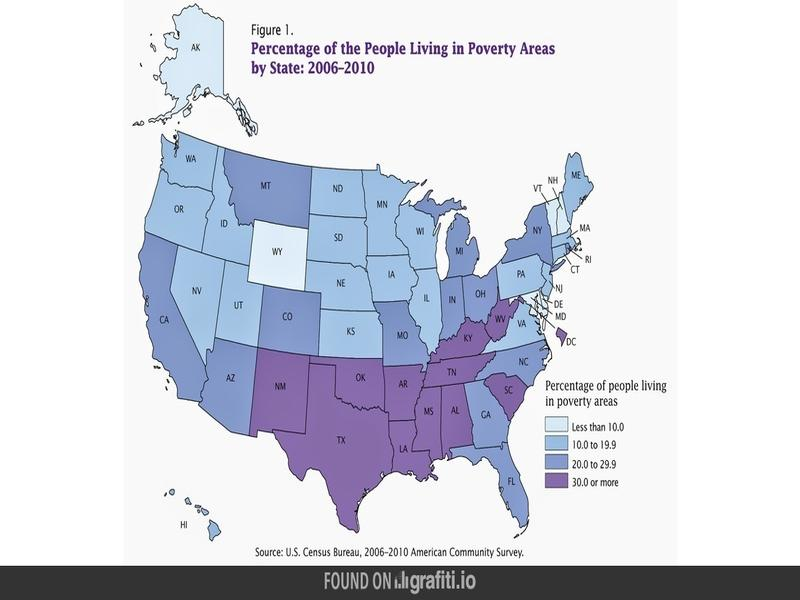legend: (544, 378, 668, 490)
